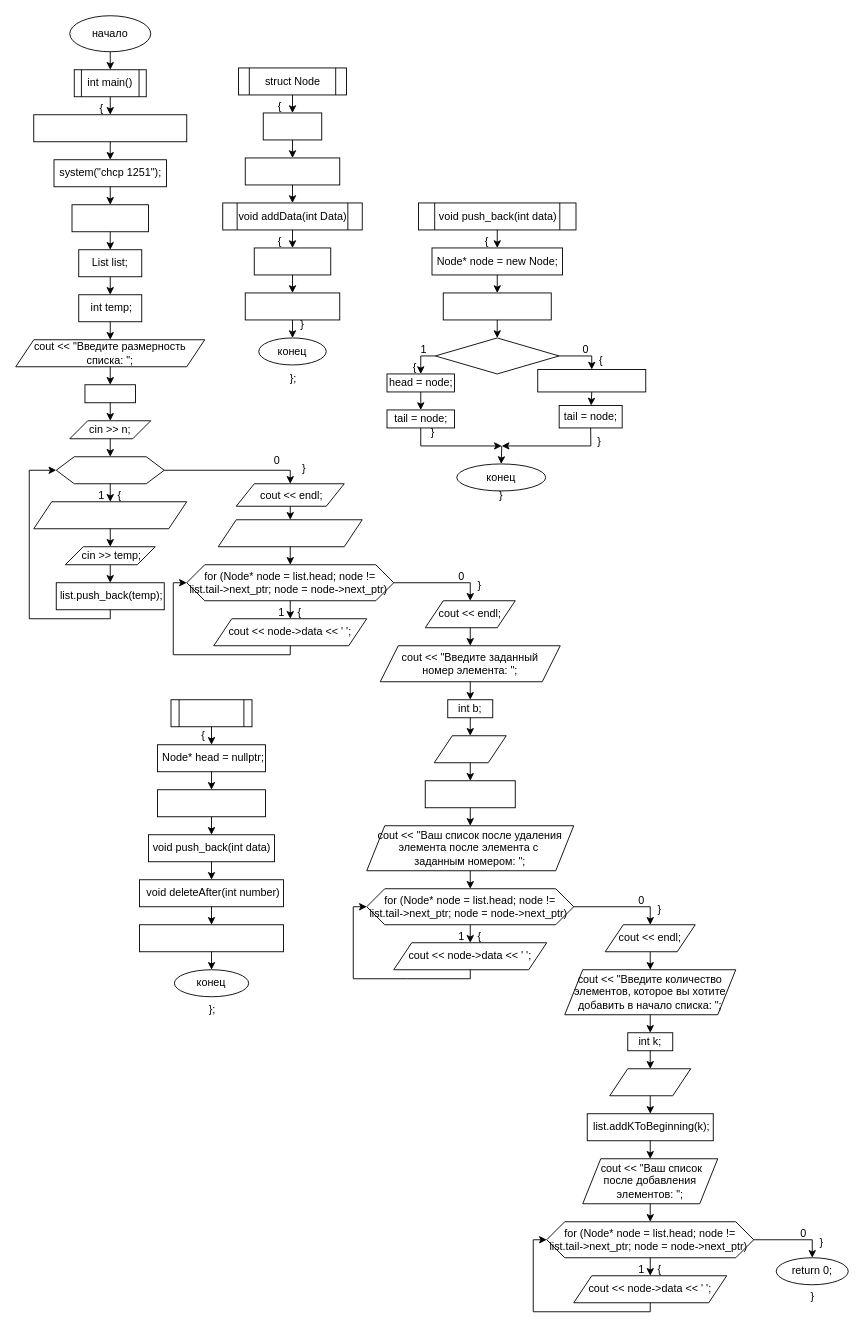
The diagram is 864 pixels wide and 1335 high, and some of its shapes have lost their labels. The centre of each missing label's shape, as x and y in pixels:
cin >> b;: point (469, 749)
cin >> k;: point (650, 1082)
cout << "Ваш список: ";: point (289, 533)
cout << "Введите " << i + 1 << " элемент списка: ";: point (110, 515)
data = Data;: point (292, 261)
for (int i = 0; i < n; ++i): point (109, 470)
if (head == nullptr): point (496, 355)
int data;: point (292, 126)
int n;: point (110, 393)
list.deleteAfter(b);: point (469, 794)
next_ptr = nullptr;: point (292, 306)
Node* next_ptr;: point (292, 171)
Node* tail = nullptr;: point (211, 803)
node->addData(data);: point (496, 306)
setlocale(LC_ALL, "Russian");: point (110, 128)
struct List: point (211, 713)
system("cls");: point (109, 218)
tail->next_ptr = node;: point (591, 380)
void addKToBeginning(int K): point (211, 938)
